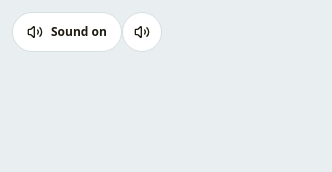
it: Sound and motion toggles › the sound toggle mutes, remembers it, and every toggle on the page follows
The image size is (332, 172).
Expected: the text "Sound on" is shown, [51, 24, 107, 40]
Click the button with aria-label "Mute sounds" at (67, 32), box [12, 12, 122, 52]
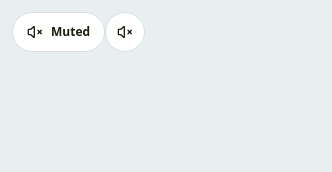
Now the text "Muted" is shown, box [51, 24, 90, 40]
